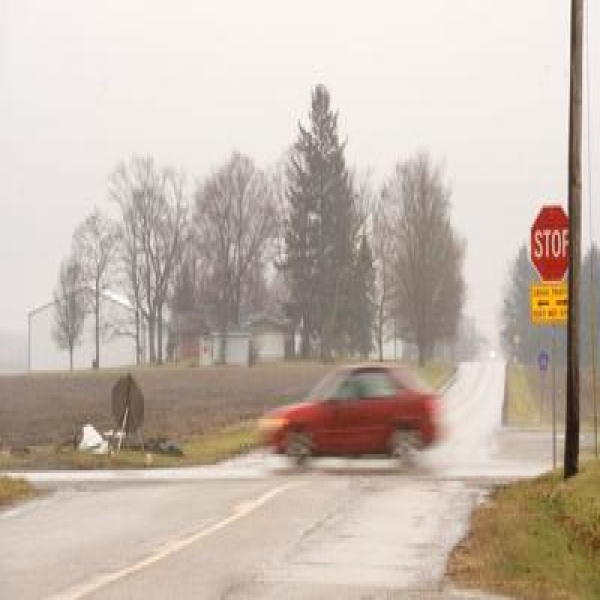stop: (526, 204, 569, 287)
